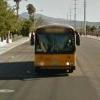Bus: (28, 23, 78, 78)
